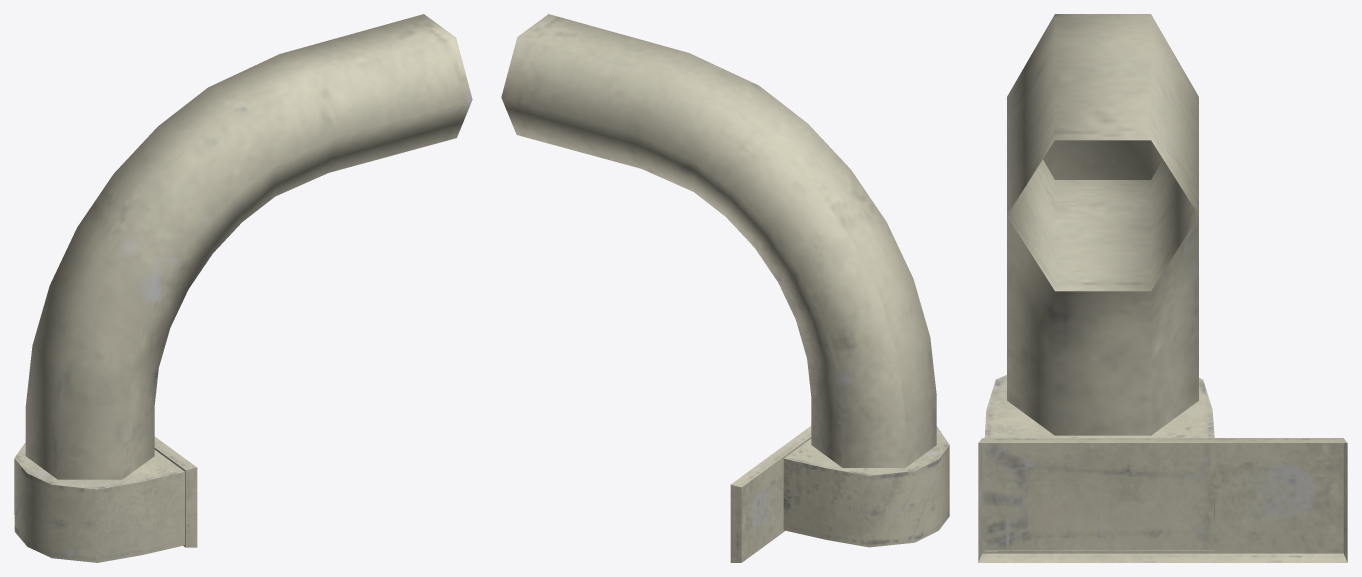
Rendered from SM_Wall_Electrical_Wire_Casing_01c.fbx.
The picture shows the model from 3 angles, left to right: view 1: azimuth 30°, elevation 25°; view 2: azimuth 150°, elevation 25°; view 3: azimuth 270°, elevation 25°; orthographic projection. The views are drawn at different scales.
Visible parts, largest first — view 1: SM_Wall_Electrical_Wire_Casing_01c_LOD0; view 2: SM_Wall_Electrical_Wire_Casing_01c_LOD0; view 3: SM_Wall_Electrical_Wire_Casing_01c_LOD0.
Boxes of the visible parts, x1=… form: SM_Wall_Electrical_Wire_Casing_01c_LOD0: x1=14, y1=14, x2=472, y2=562; SM_Wall_Electrical_Wire_Casing_01c_LOD0: x1=501, y1=14, x2=949, y2=562; SM_Wall_Electrical_Wire_Casing_01c_LOD0: x1=978, y1=14, x2=1347, y2=562.
Bounding box in the file's own units: 8.55 × 4.41 × 8.3.
